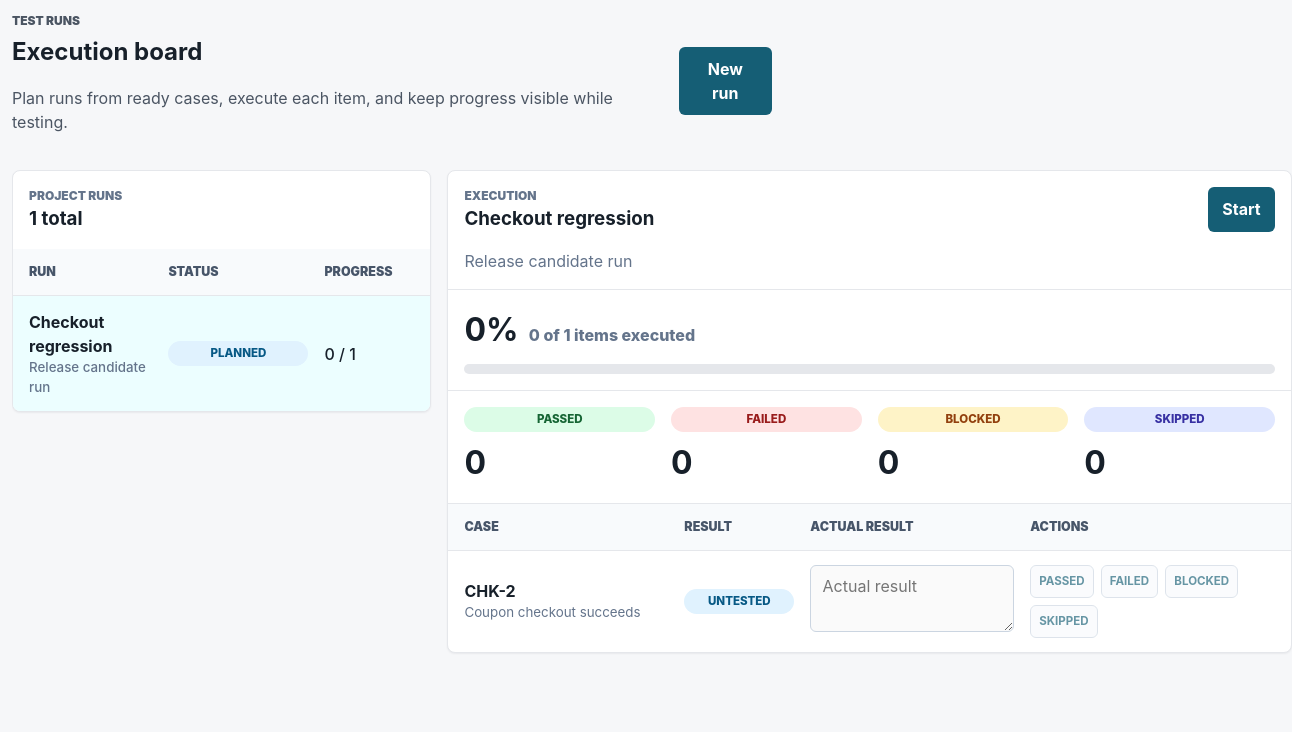
TestRunsPage › starts a planned run, marks an item result, and updates progress
Expected: the element with test id "run-progress" shows "0%", [464, 310, 518, 349]
Click the button with test id "start-run": (1241, 209) [1208, 187, 1275, 232]
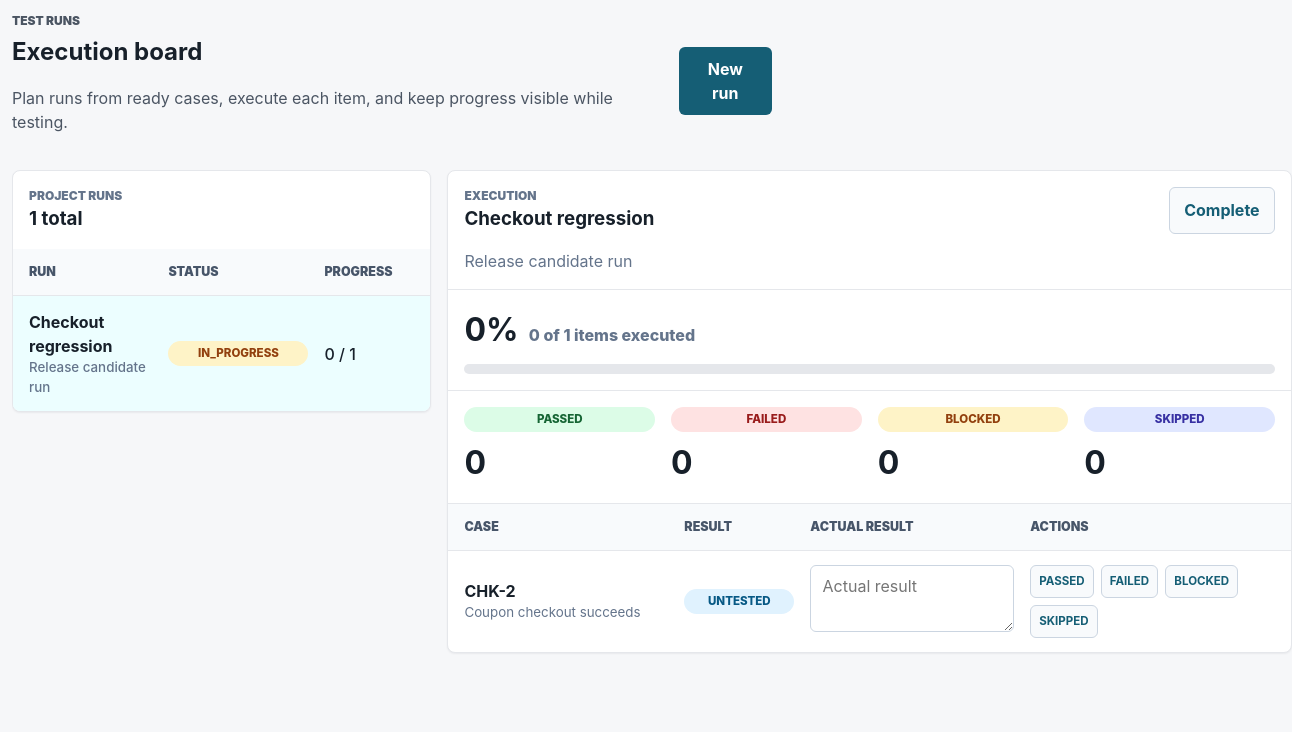
In the text box with test id "item-result-note-item-2": (912, 598) [810, 565, 1014, 632], type "Coupon accepted"
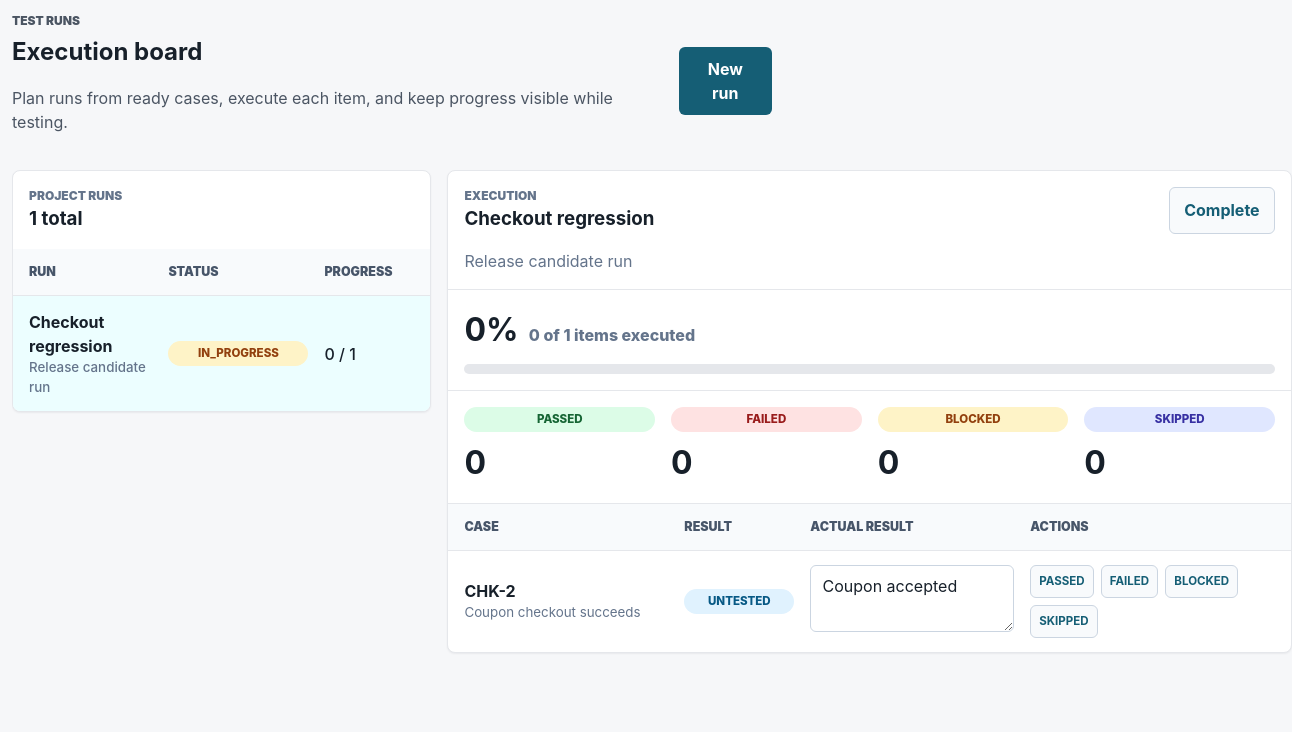
Click the button with test id "mark-item-2-PASSED": (1062, 581) [1030, 565, 1094, 598]
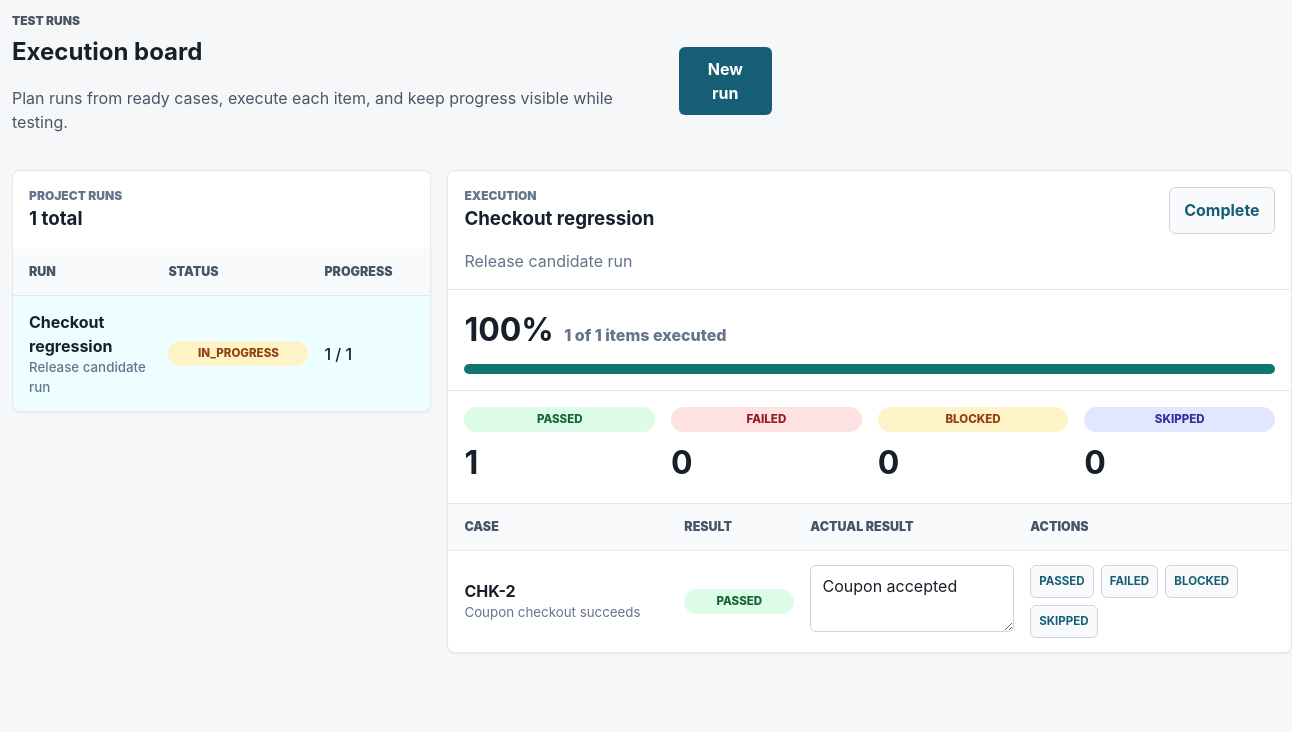
Now the element with test id "run-progress" shows "100%", box [464, 310, 554, 349]
